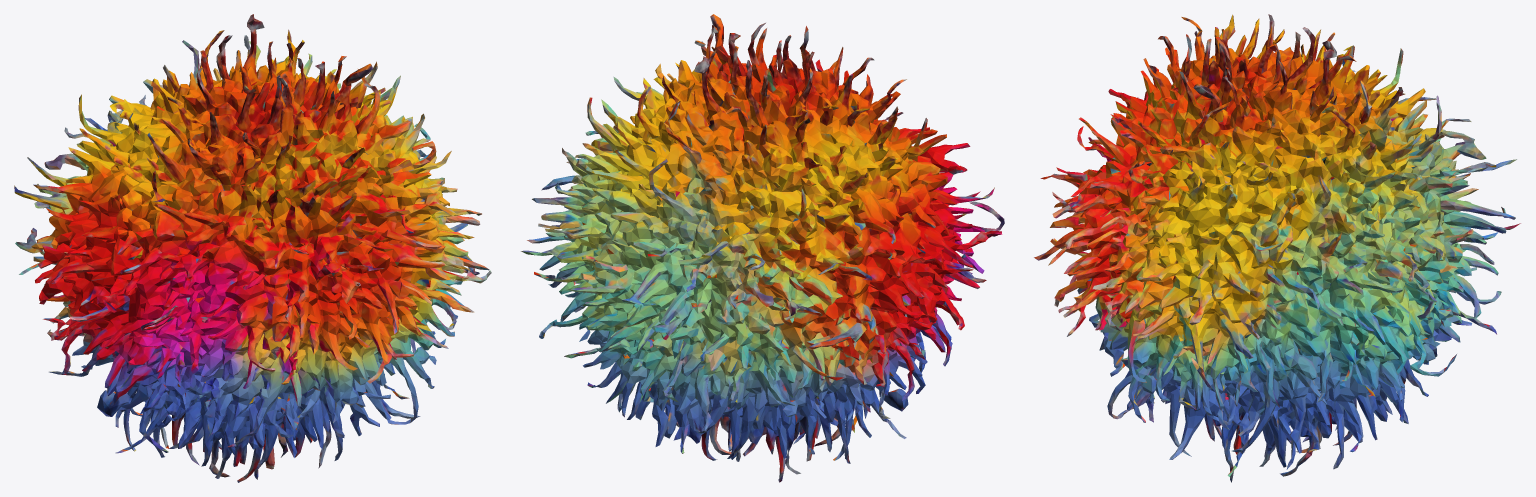
The model's file is Fur.glb.
3 views of the same model, side by side, from view 1: azimuth 30°, elevation 25°; view 2: azimuth 150°, elevation 25°; view 3: azimuth 270°, elevation 25° (orthographic). The views are drawn at different scales.
Parts seen in each view (by area): view 1: temp_mesh.ply; view 2: temp_mesh.ply; view 3: temp_mesh.ply.
Boxes of the visible parts, x1,y1,x2,y2 form: temp_mesh.ply: [14, 14, 491, 482]; temp_mesh.ply: [521, 14, 1004, 482]; temp_mesh.ply: [1034, 14, 1520, 482].
Bounding box in the file's own units: 1.88 × 1.83 × 1.86.
1 material, 1 textured.
